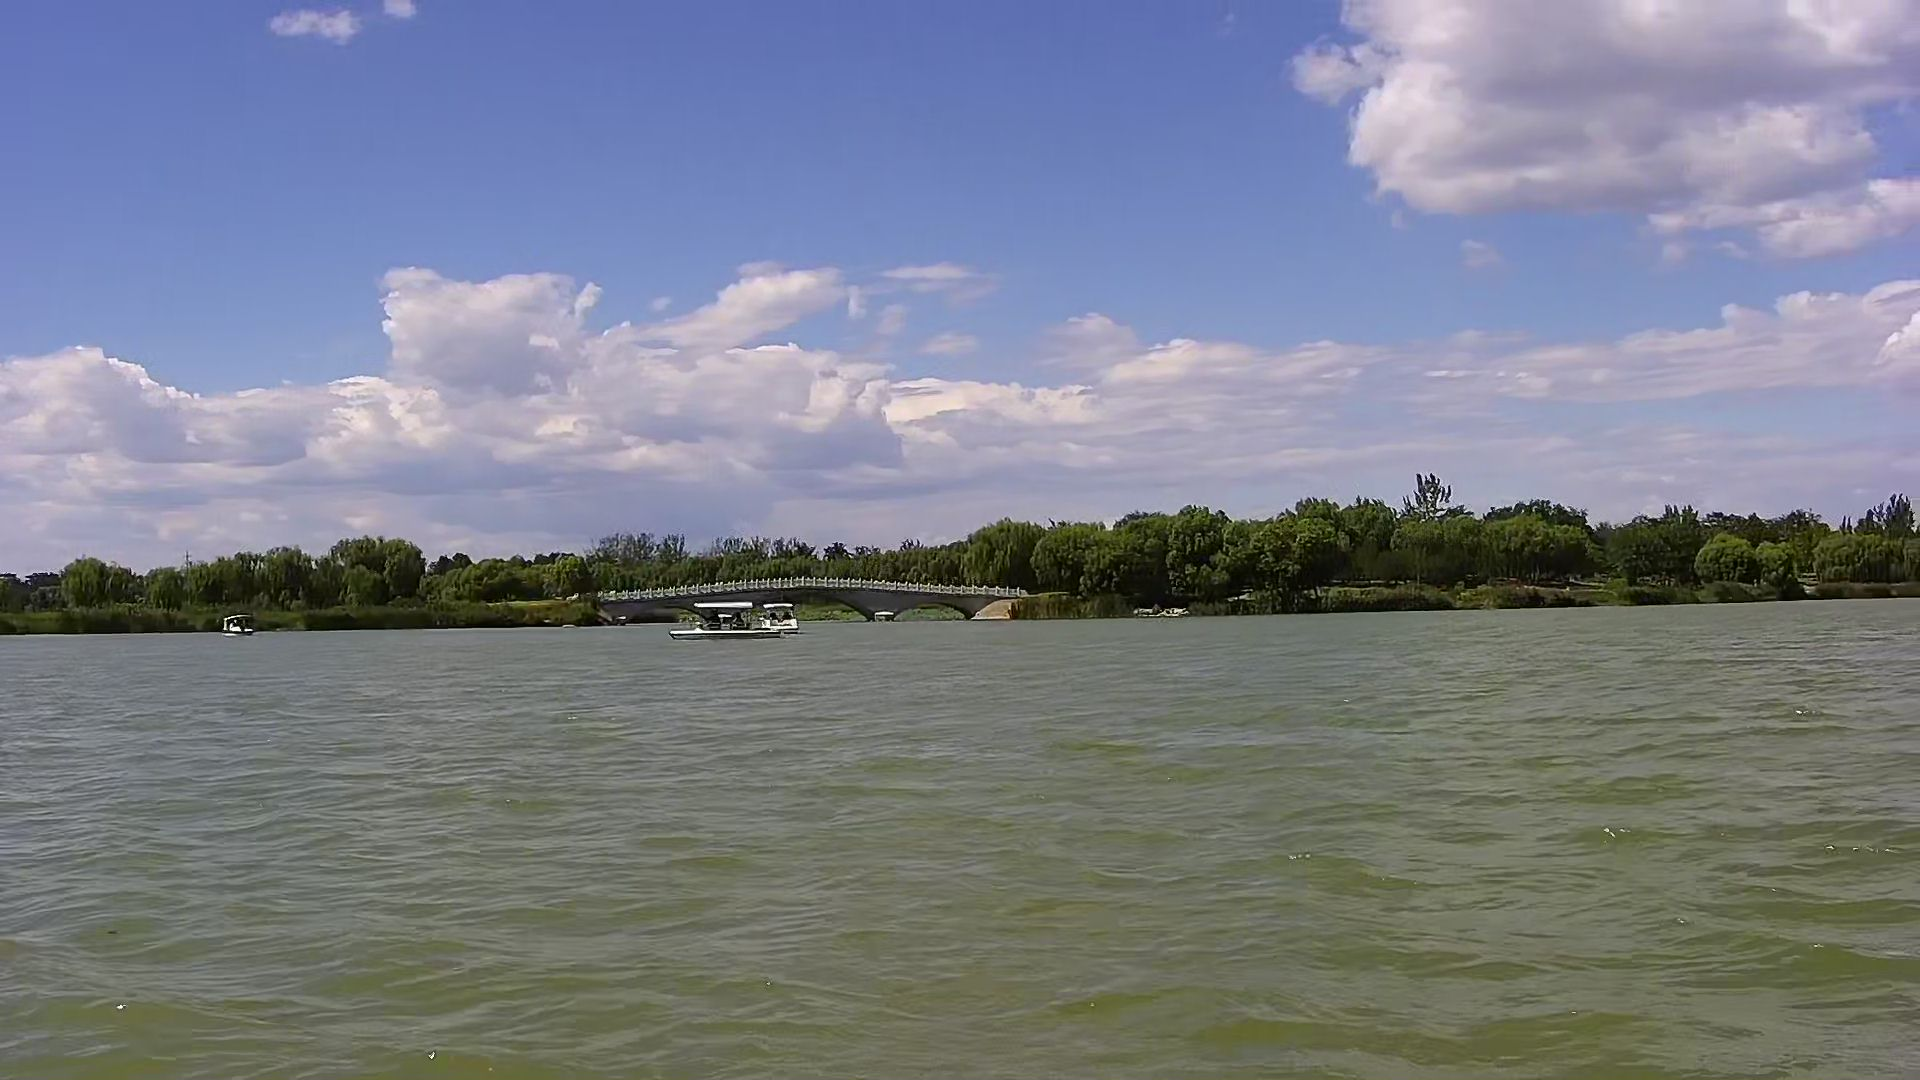boat: (675, 596, 765, 650), (757, 596, 807, 646), (218, 608, 258, 638)
bridge: (583, 574, 1021, 622)
